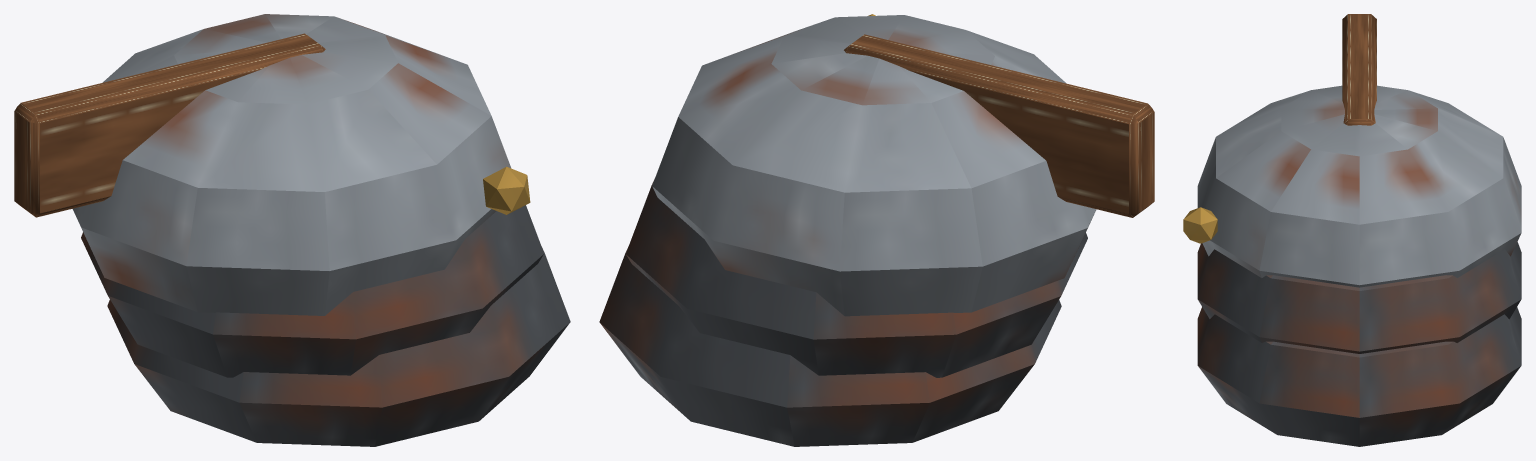
Rendered from ACC_Armor_ShoulderL.fbx.
The picture shows the model from 3 angles, left to right: view 1: azimuth 30°, elevation 25°; view 2: azimuth 150°, elevation 25°; view 3: azimuth 270°, elevation 25°; orthographic projection. The views are drawn at different scales.
Parts seen in each view (by area): view 1: ACC_Armor_ShoulderL; view 2: ACC_Armor_ShoulderL; view 3: ACC_Armor_ShoulderL.
Boxes of the visible parts, <box> form: ACC_Armor_ShoulderL: <box>14,14,570,446</box>; ACC_Armor_ShoulderL: <box>599,14,1154,446</box>; ACC_Armor_ShoulderL: <box>1183,14,1521,446</box>.
Bounding box in the file's own units: 1.58 × 0.976 × 1.17.
Materials: 1 (1 with a texture image).
